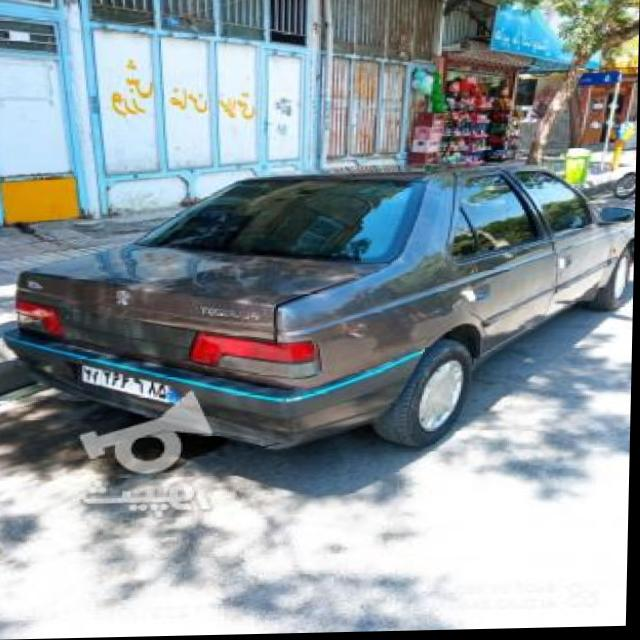licence: (77, 358, 195, 411)
